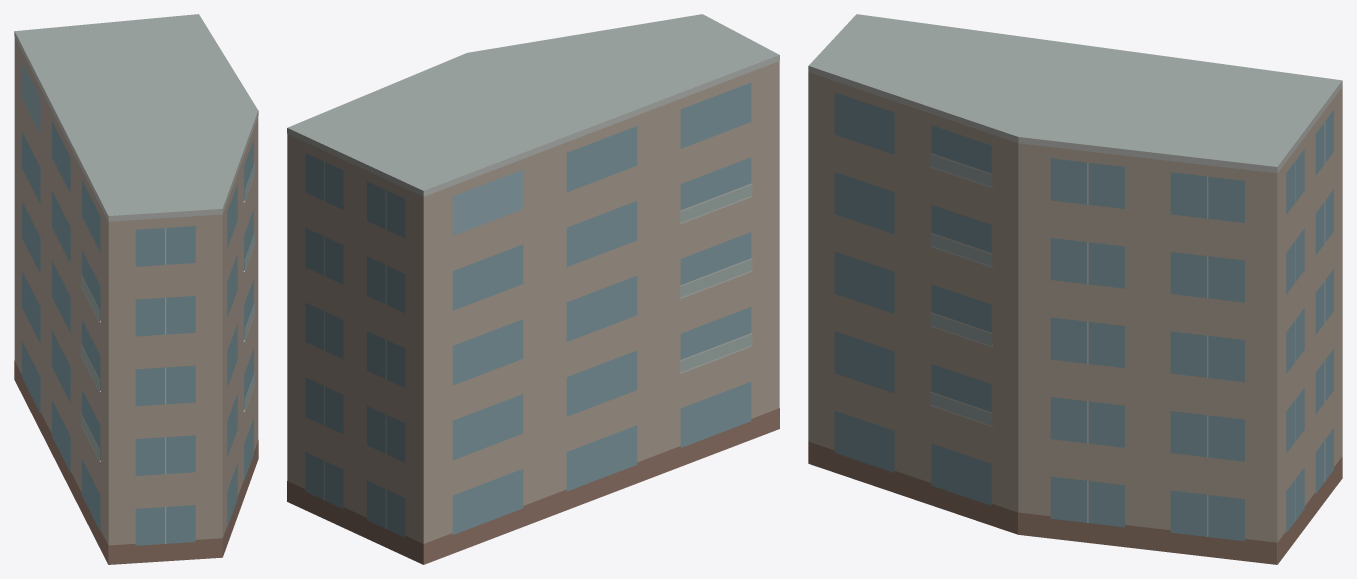
Rendered from survey-upis-32875473.glb.
3 renders of one model, left to right at view 1: azimuth 30°, elevation 25°; view 2: azimuth 150°, elevation 25°; view 3: azimuth 270°, elevation 25°, orthographic. The views are drawn at different scales.
Parts seen in each view (by area): view 1: survey-upis-32875473.tmp; view 2: survey-upis-32875473.tmp; view 3: survey-upis-32875473.tmp.
Part boxes in pixels (x1,y1,x2,y2): survey-upis-32875473.tmp: (14,14,258,564); survey-upis-32875473.tmp: (287,14,779,564); survey-upis-32875473.tmp: (808,14,1342,564).
Size of the model in its own units: 12.55 by 15.2 by 18.5.
